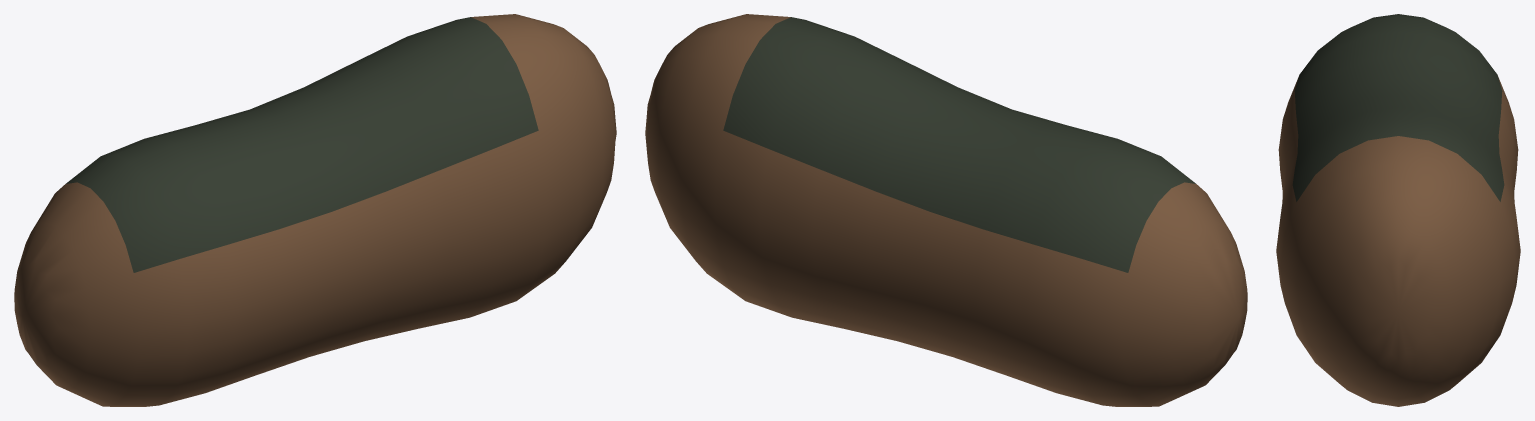
Rendered from wolf_body.glb.
3 views of the same model, side by side, from view 1: azimuth 30°, elevation 25°; view 2: azimuth 150°, elevation 25°; view 3: azimuth 270°, elevation 25° (orthographic). The views are drawn at different scales.
Visible parts, largest first — view 1: wolf_body; view 2: wolf_body; view 3: wolf_body.
Part boxes in pixels (x1,y1,x2,y2): wolf_body: [14, 14, 616, 406]; wolf_body: [645, 14, 1247, 406]; wolf_body: [1276, 14, 1520, 406].
Size of the model in its own units: 1.28 by 0.606 by 0.4779.
